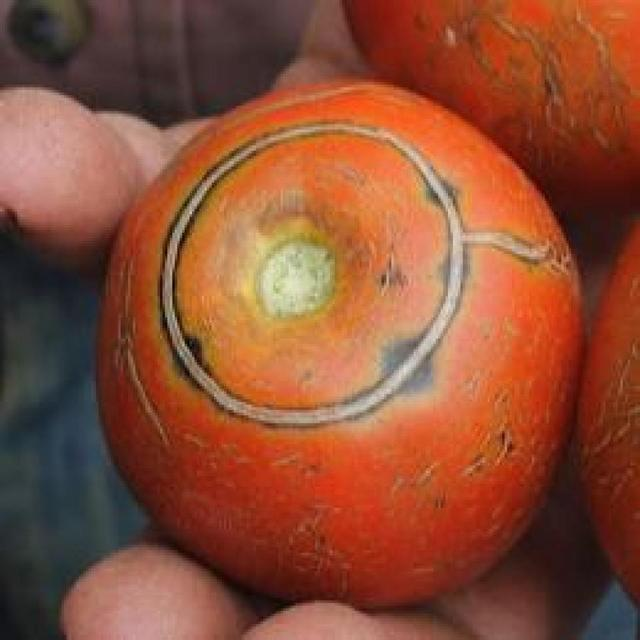Cracking Fruit: (36, 44, 407, 288)
